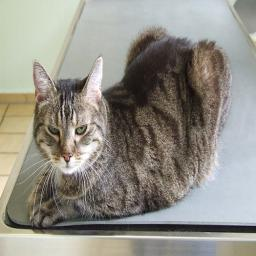catnose: (60, 149, 76, 167)
